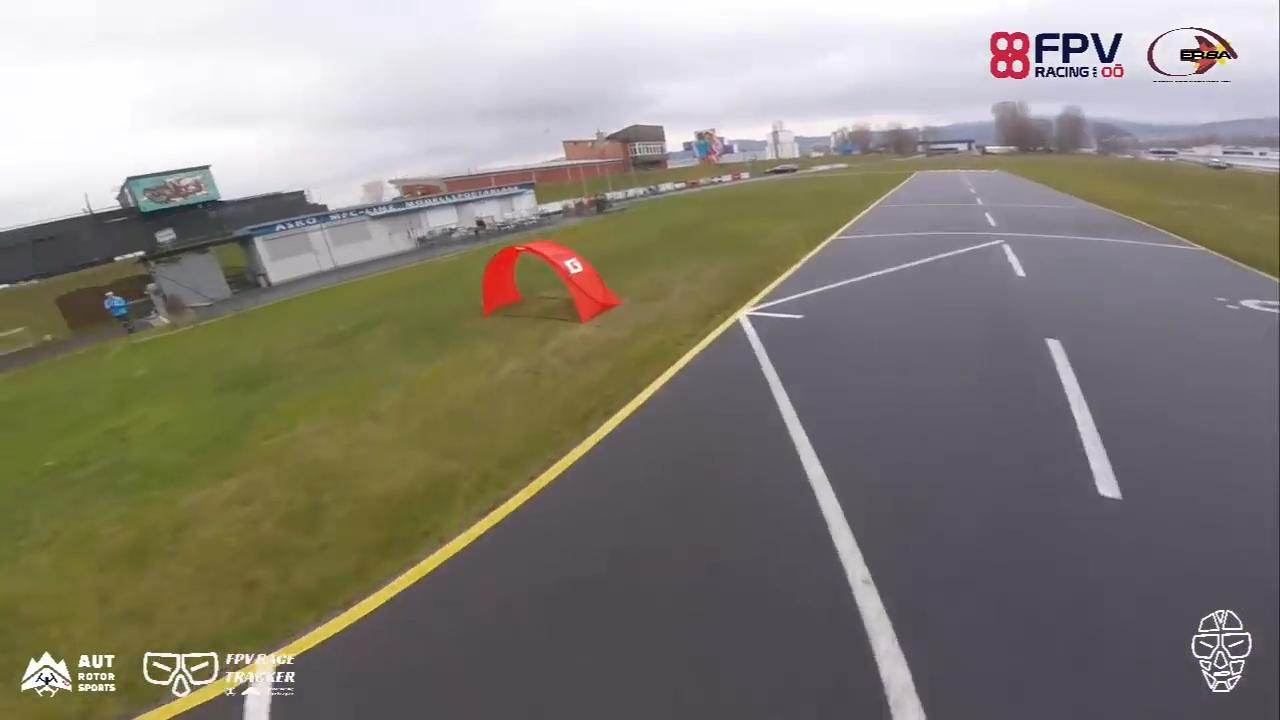gate: (479, 238, 625, 323)
